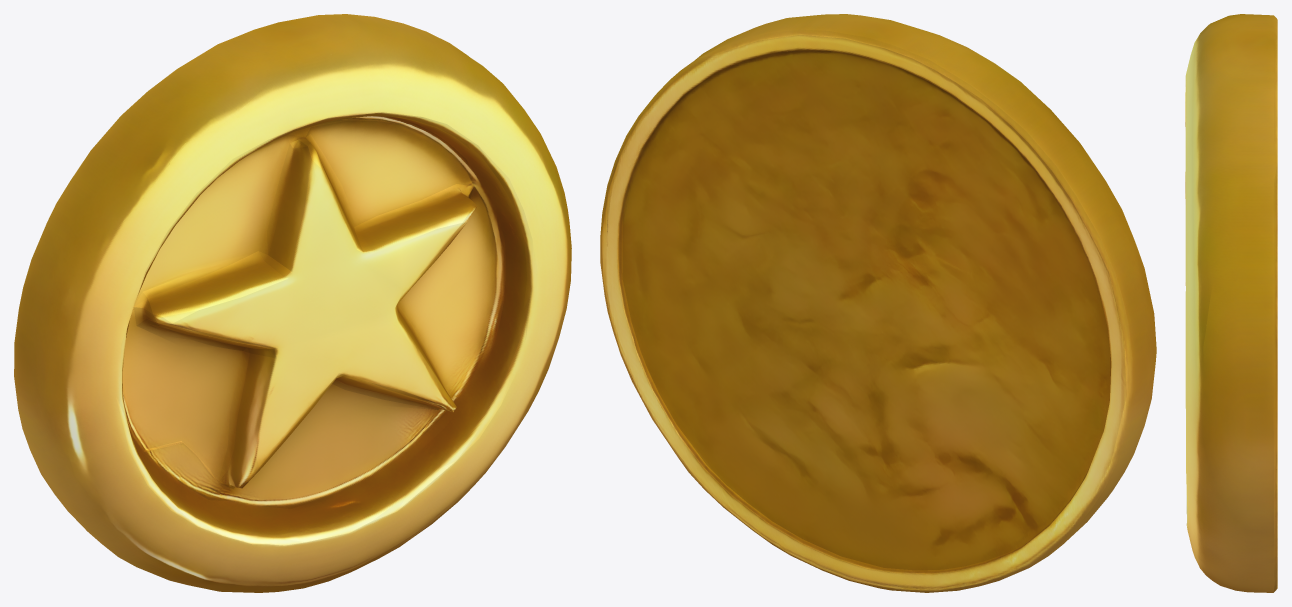
The picture shows the model from 3 angles, left to right: view 1: azimuth 30°, elevation 25°; view 2: azimuth 150°, elevation 25°; view 3: azimuth 270°, elevation 25°; orthographic projection. The views are drawn at different scales.
Parts seen in each view (by area): view 1: model; view 2: model; view 3: model.
Part boxes in pixels (x1,y1,x2,y2): model: (14,14,571,592); model: (600,14,1156,592); model: (1185,14,1277,592).
Bounding box in the file's own units: 1.9 × 1.87 × 0.3002.
Materials: 1 (1 with a texture image).
